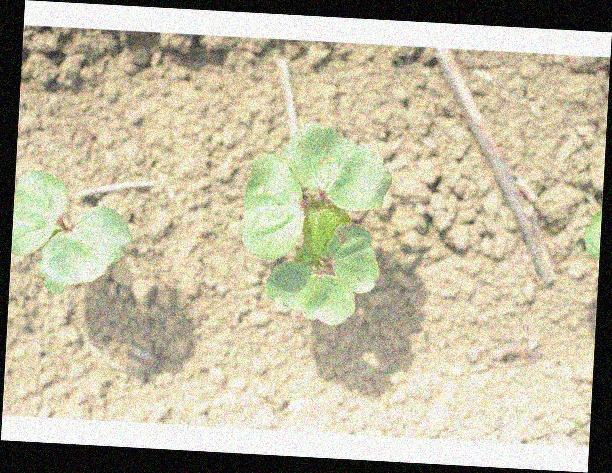cotton: (241, 124, 391, 324), (12, 170, 130, 292)
